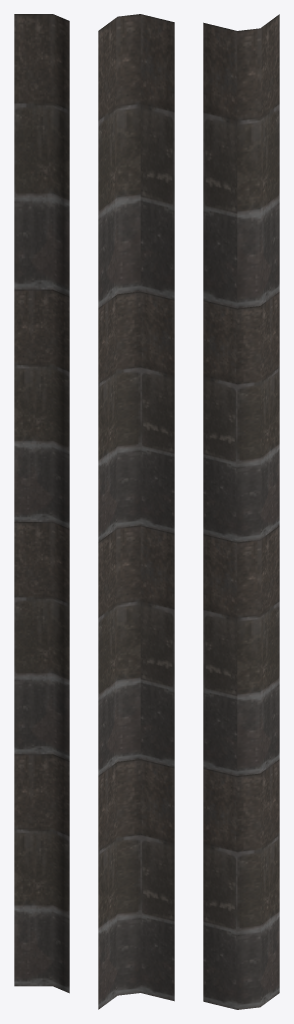
File: Psychiatric_Ward_Basement_Upper_Wall_Corner.glb
3 renders of one model, left to right at view 1: azimuth 90°, elevation 25°; view 2: azimuth 150°, elevation 25°; view 3: azimuth 330°, elevation 25°, orthographic.
Parts seen in each view (by area): view 1: Psychiatric_Ward_Basement_Upper_Wall_Corner; view 2: Psychiatric_Ward_Basement_Upper_Wall_Corner; view 3: Psychiatric_Ward_Basement_Upper_Wall_Corner.
Boxes of the visible parts, x1,y1,x2,y2 form: Psychiatric_Ward_Basement_Upper_Wall_Corner: (14,14,69,993); Psychiatric_Ward_Basement_Upper_Wall_Corner: (98,14,174,1009); Psychiatric_Ward_Basement_Upper_Wall_Corner: (203,14,279,1009).
Size of the model in its own units: 0.144 by 2.77 by 0.1437.
1 material, 1 textured.
